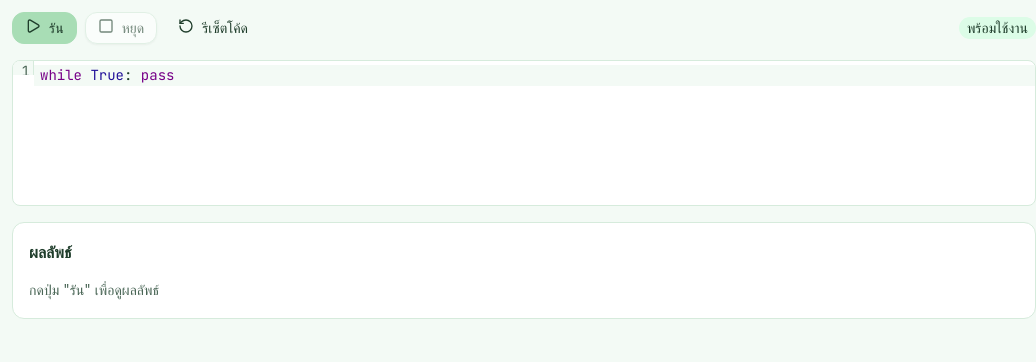
it: CodePlayground › shows a Thai notice when the code is stopped by the timeout
The width and height of the screenshot is (1036, 362).
Click the button "รัน" at (44,28), box left=12, top=12, right=77, bottom=44
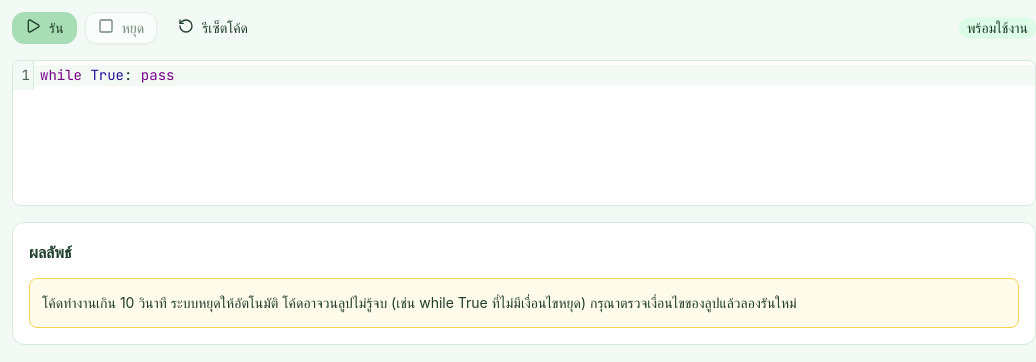
Check: the text "โค้ดทำงานเกิน 10 วินาที ระบบหยุดให้อัตโนมัติ โค้ดอาจวนลูปไม่รู้จบ (เช่น while True ที่ไม่มีเงื่อนไขหยุด) กรุณาตรวจเงื่อน" is shown, box left=42, top=294, right=797, bottom=311
